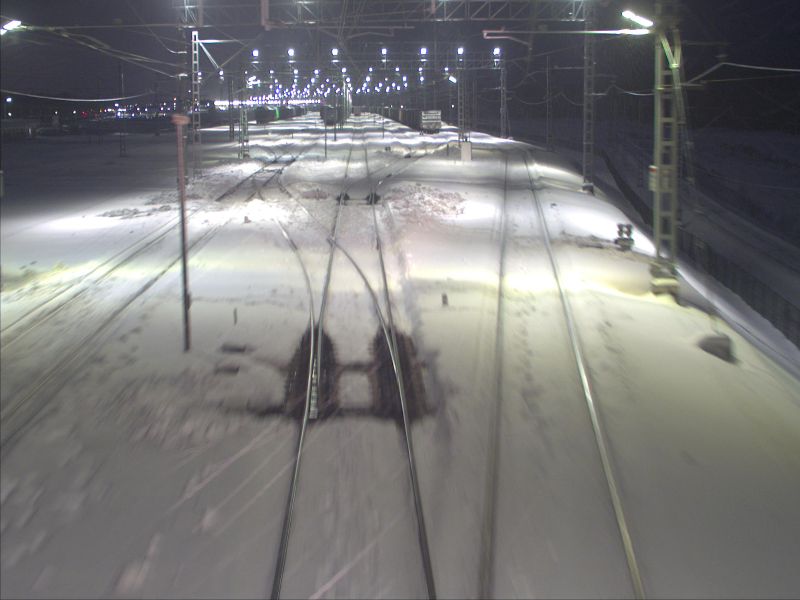left: (292, 232, 409, 411)
right: (340, 171, 375, 204)
